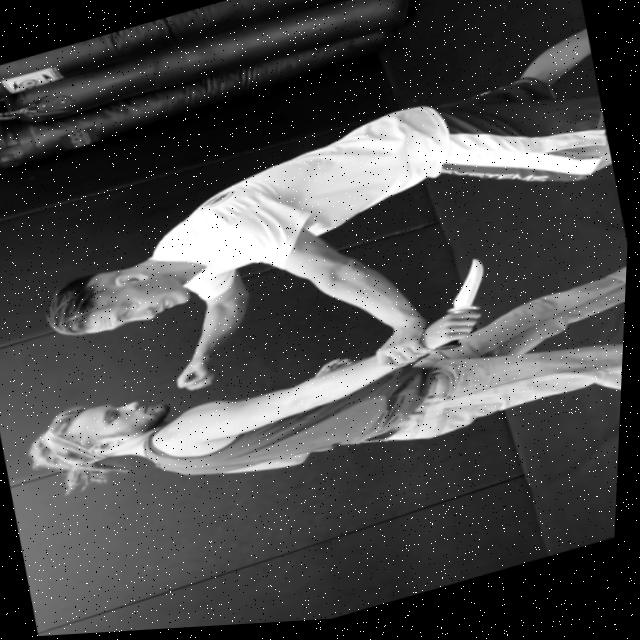knife: (431, 255, 508, 324)
